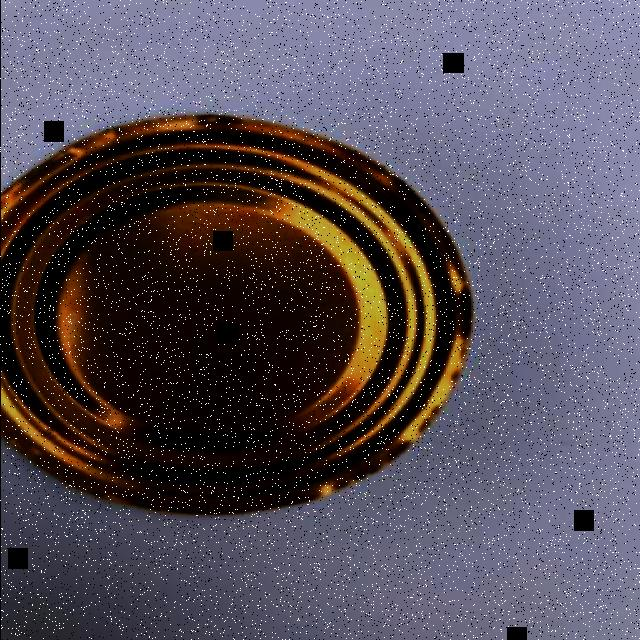can: (0, 110, 477, 519)
